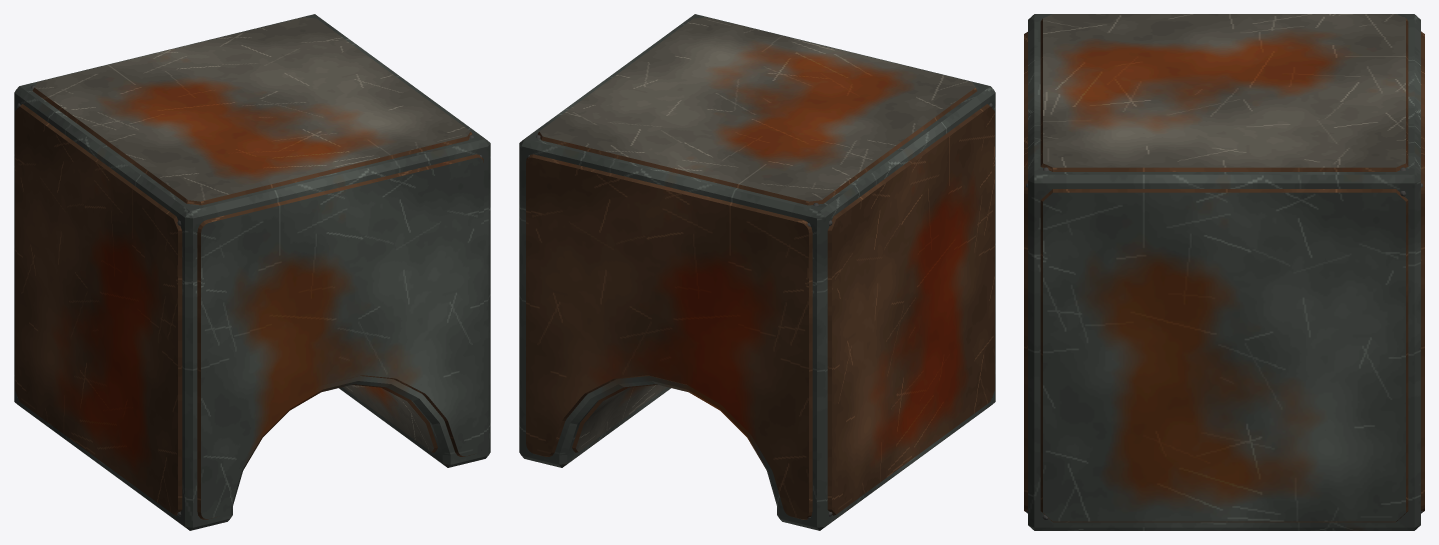
File: R4B_Arch.glb
3 views of the same model, side by side, from view 1: azimuth 30°, elevation 25°; view 2: azimuth 150°, elevation 25°; view 3: azimuth 270°, elevation 25° (orthographic). The views are drawn at different scales.
Parts seen in each view (by area): view 1: R4B_Arch; view 2: R4B_Arch; view 3: R4B_Arch.
Boxes of the visible parts, left/top/right/bottom form: R4B_Arch: left=14, top=14, right=490, bottom=530; R4B_Arch: left=519, top=14, right=995, bottom=530; R4B_Arch: left=1024, top=14, right=1424, bottom=530.
Bounding box in the file's own units: 0.52 × 0.515 × 0.52.
Materials: 4 (4 with a texture image).
